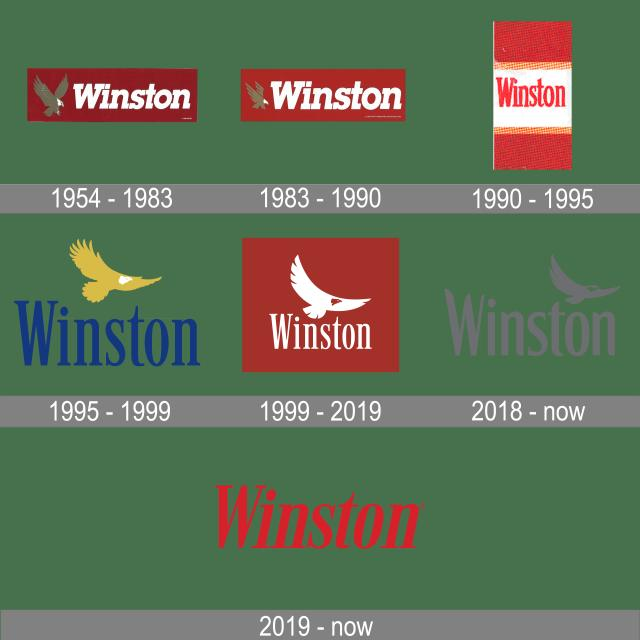winston: (481, 13, 592, 180)
